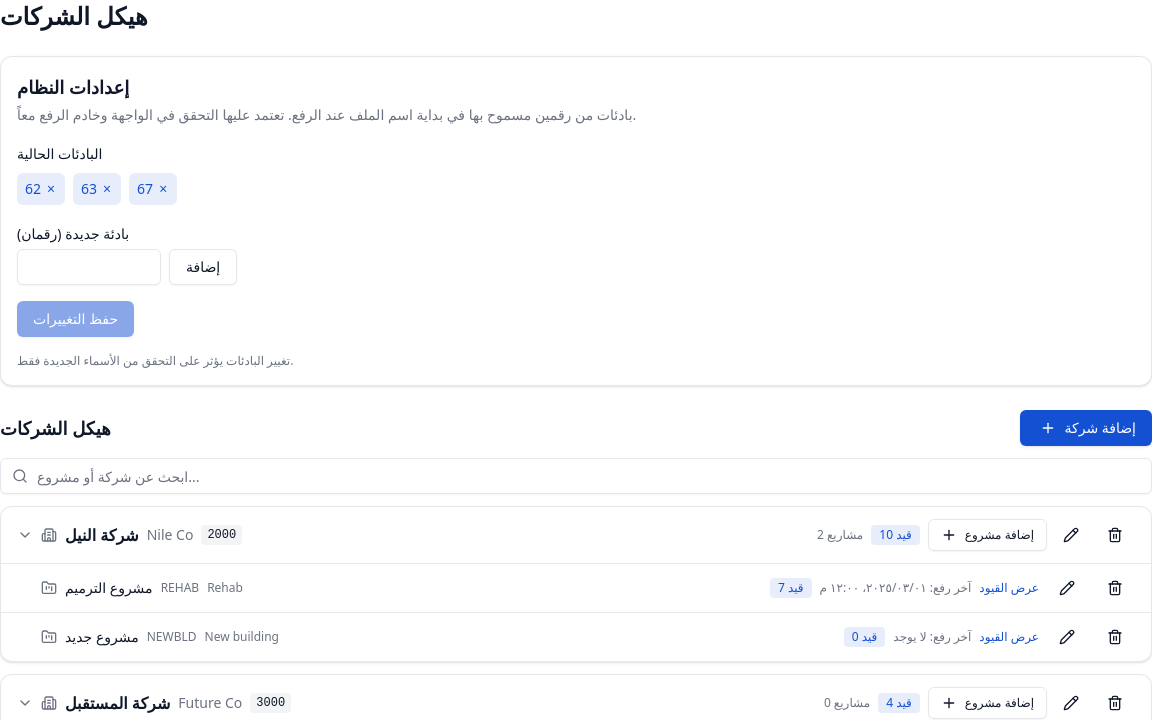
Test case: AdminStructurePage › delete company refused (active projects) shows the blocking message in the dialog
This screenshot has width=1152, height=720.
Expected: the text "شركة النيل" is shown, [65, 523, 139, 547]
Click the button named "حذف شركة النيل": coordinates (1115, 535) [1095, 519, 1135, 551]
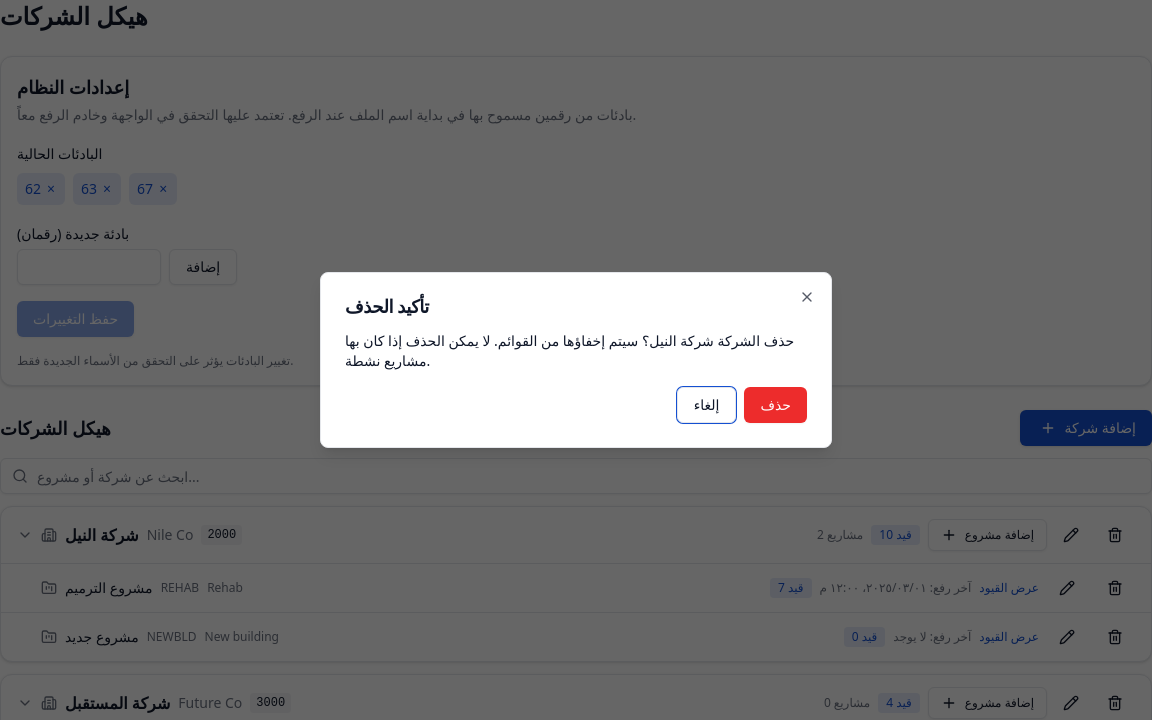
Click the button "حذف": coordinates (776, 405) [744, 387, 807, 423]
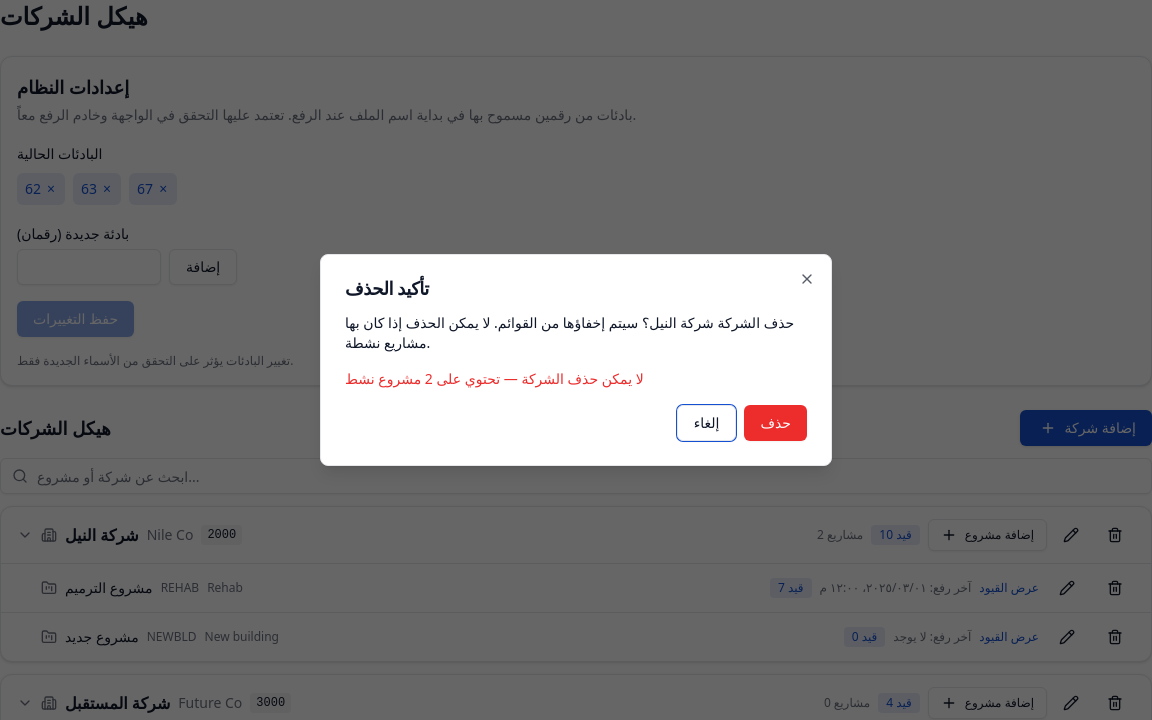
Now the heading "تأكيد الحذف" is shown, box [345, 276, 429, 300]
Now the message reads "لا يمكن حذف الشركة — تحتوي على 2 مشروع نشط", box [345, 369, 644, 388]
